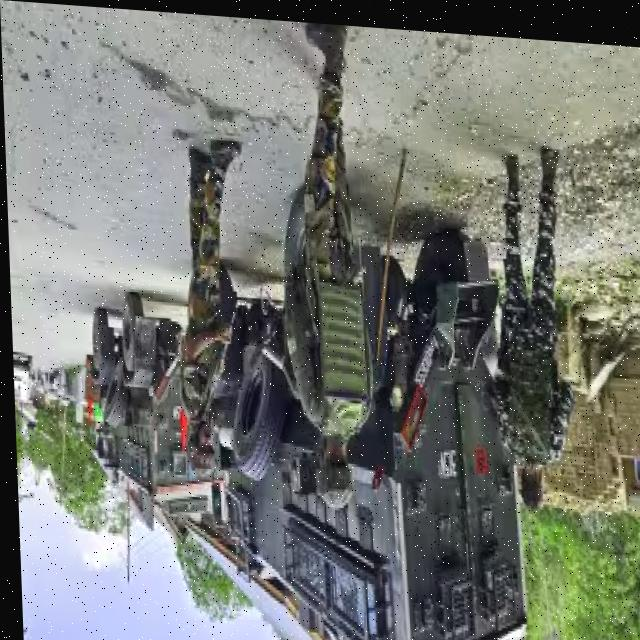unit number: (412, 324, 440, 384), (433, 440, 457, 476)
